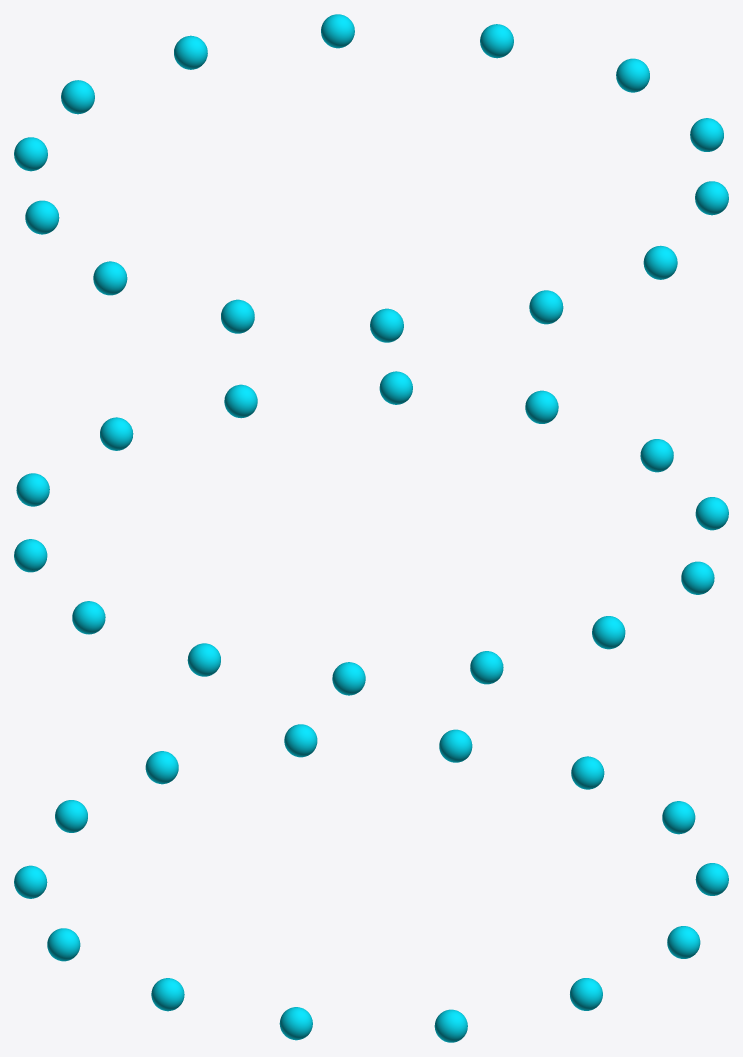
The picture shows the model from 3 angles, top to bottom: view 1: azimuth 30°, elevation 25°; view 2: azimuth 150°, elevation 25°; view 3: azimuth 270°, elevation 25°; orthographic projection. The views are drawn at different scales.
Visible parts, largest first — view 1: Sphere050; view 2: Sphere050; view 3: Sphere050.
Part boxes in pixels (x1,y1,x2,y2): Sphere050: [14, 14, 728, 342]; Sphere050: [14, 371, 728, 695]; Sphere050: [14, 724, 728, 1042].
Bounding box in the file's own units: 175 × 8.22 × 177.
